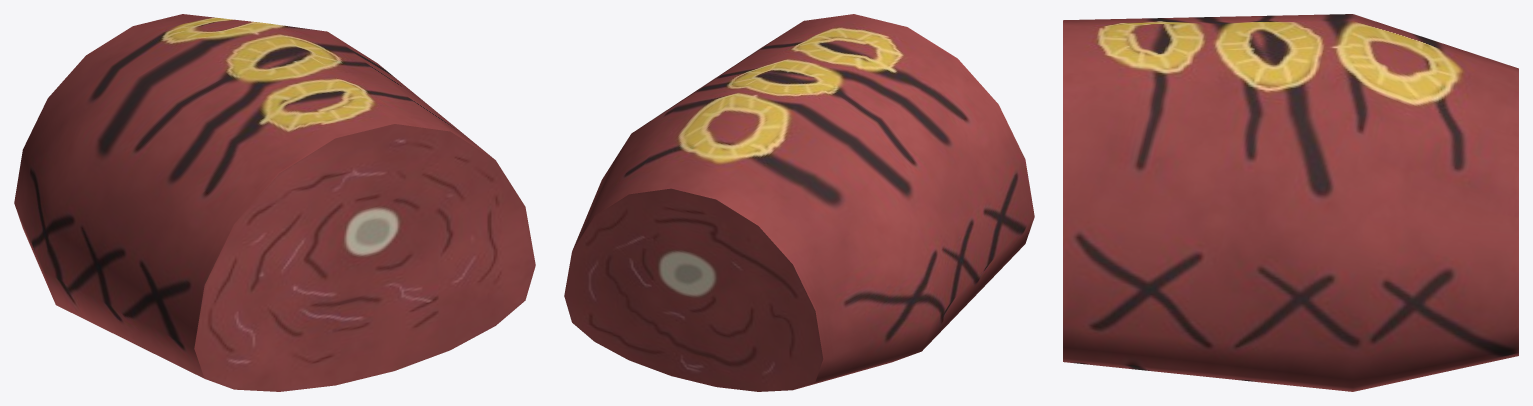
File: ham_nice_3.FBX
3 views of the same model, side by side, from view 1: azimuth 30°, elevation 25°; view 2: azimuth 150°, elevation 25°; view 3: azimuth 270°, elevation 25° (orthographic). The views are drawn at different scales.
Visible parts, largest first — view 1: ham_nice_3; view 2: ham_nice_3; view 3: ham_nice_3.
Part boxes in pixels (x1=…): ham_nice_3: x1=14, y1=14, x2=535, y2=391; ham_nice_3: x1=564, y1=14, x2=1034, y2=391; ham_nice_3: x1=1063, y1=14, x2=1518, y2=391.
Bounding box in the file's own units: 14.28 × 13.58 × 9.88.
